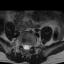CCS_normal: (25, 42, 28, 52)
LFS_normal: (30, 41, 32, 49)
LLS_normal: (28, 42, 30, 50)
RFS_normal: (21, 40, 23, 48)
RLS_normal: (23, 42, 25, 50)
